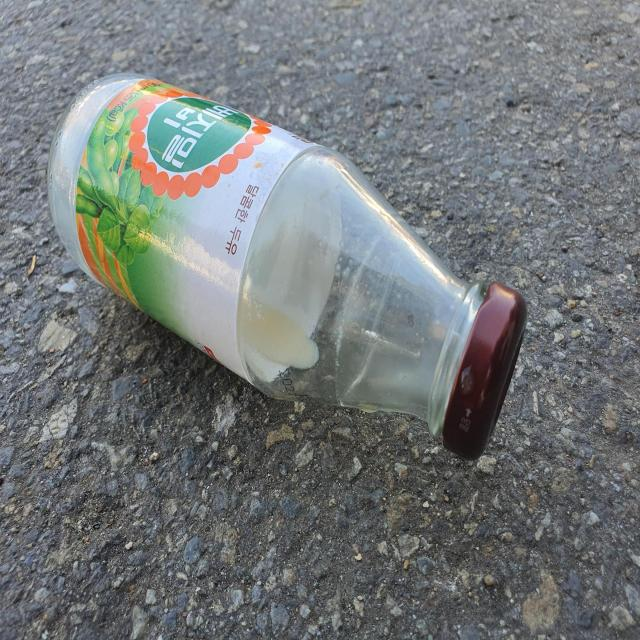glass: (48, 74, 527, 459)
